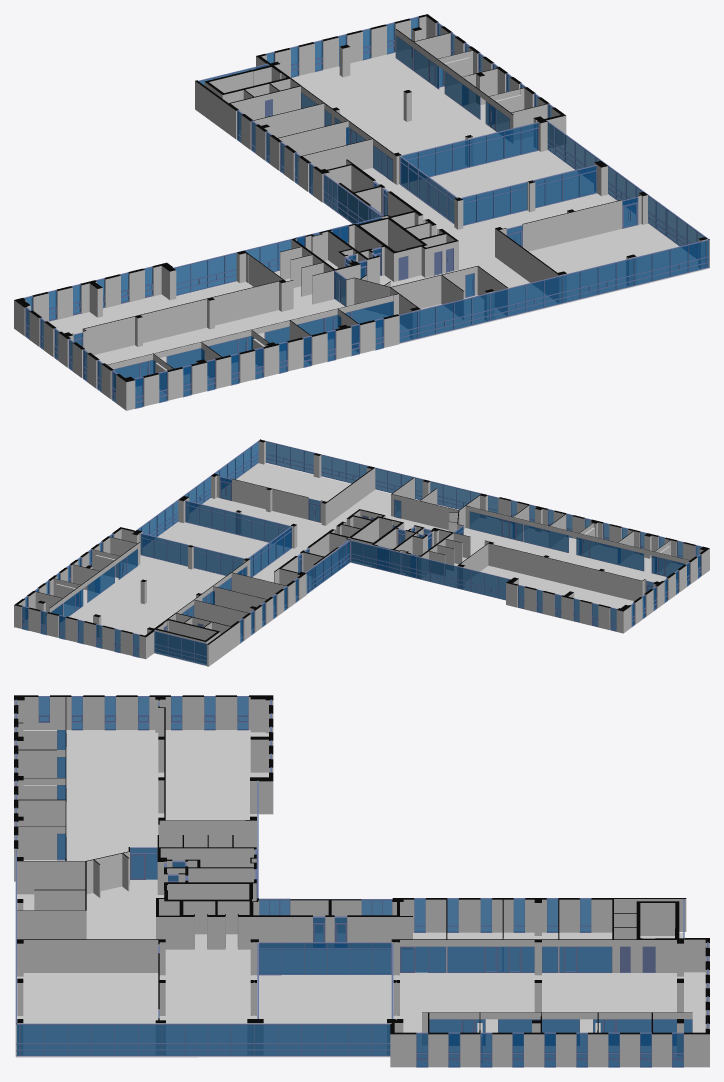
3 renders of one model, top to bottom at view 1: azimuth 30°, elevation 25°; view 2: azimuth 150°, elevation 25°; view 3: azimuth 270°, elevation 25°, orthographic. The views are drawn at different scales.
Parts seen in each view (by area): view 1: Line198, Line231, 2F, Line199, Line200, Box507, Box413, Box403, Box506, Box405, Box402, Box401 (+7 smaller); view 2: Line198, Line231, 2F, Line199, Line200, Box413, Box507, Line201, Box405, Box513, Box403, Box506 (+9 smaller); view 3: Line231, Line198, Line199, 2F, Box506, Box407, Box397, Box399, Box406, Box543, Box396, Line200 (+4 smaller).
Boxes of the visible parts, x1,y1,x2,y2 form: Line198: (14, 14, 709, 410); Line231: (27, 49, 709, 406); 2F: (73, 35, 709, 391); Line199: (399, 123, 708, 342); Line200: (174, 175, 381, 294); Box507: (402, 123, 537, 182); Box413: (462, 166, 596, 224); Box403: (135, 319, 383, 407); Box506: (400, 158, 455, 222); Box405: (267, 18, 418, 76); Box402: (134, 318, 383, 408); Box401: (25, 267, 152, 319); Line198: (14, 439, 709, 666); Line231: (23, 463, 698, 666); 2F: (50, 439, 685, 665); Line199: (138, 441, 498, 545); Line200: (306, 541, 509, 599); Box413: (186, 501, 289, 546); Box507: (141, 534, 243, 575); Line201: (154, 632, 206, 664); Box405: (22, 607, 139, 656); Box513: (590, 541, 643, 570); Box403: (511, 501, 701, 567); Box506: (249, 528, 291, 576); Line231: (16, 730, 705, 1065); Line198: (14, 695, 709, 1067); Line199: (16, 1025, 390, 1055); 2F: (15, 702, 692, 1056); Box506: (259, 943, 390, 974); Box407: (417, 1034, 683, 1066); Box397: (39, 697, 248, 729); Box399: (414, 899, 590, 931); Box406: (416, 1032, 683, 1067); Box543: (498, 1019, 579, 1044); Box396: (38, 696, 248, 730); Line200: (259, 900, 391, 915).
Bounding box in the file's own units: 67.8 × 3.2 × 58.8.
